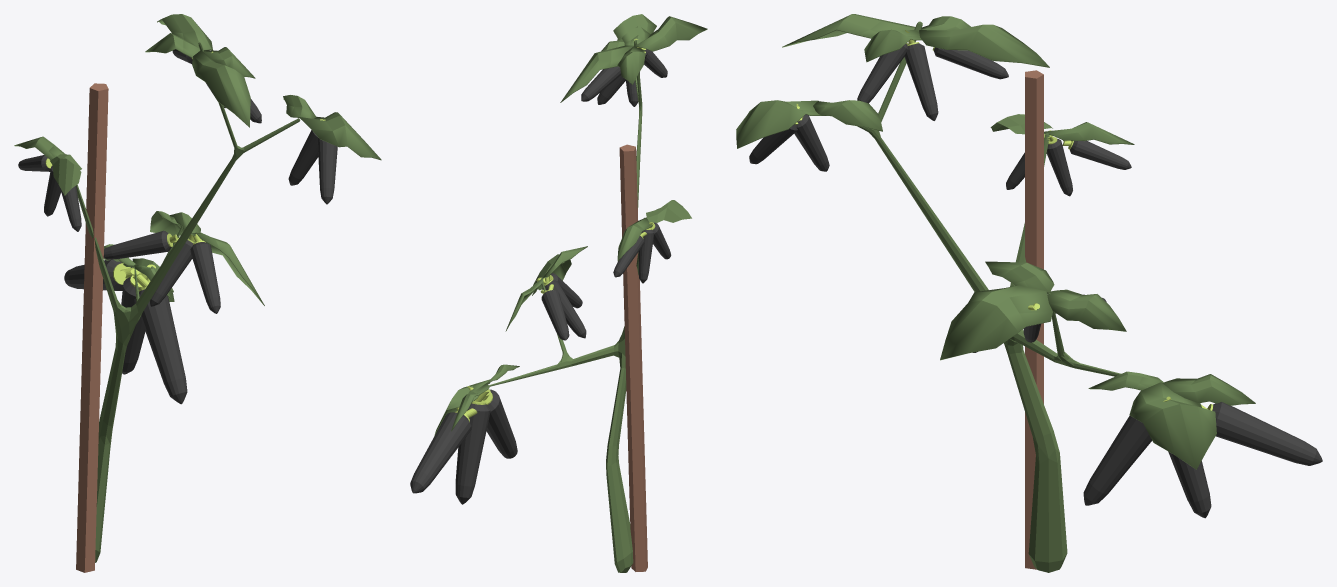
File: plant05.fbx
The picture shows the model from 3 angles, left to right: view 1: azimuth 30°, elevation 25°; view 2: azimuth 150°, elevation 25°; view 3: azimuth 270°, elevation 25°; orthographic projection. The views are drawn at different scales.
Parts seen in each view (by area): view 1: Plane.043; view 2: Plane.043; view 3: Plane.043.
Boxes of the visible parts, left/top/right/bottom form: Plane.043: left=14, top=14, right=381, bottom=572; Plane.043: left=410, top=14, right=707, bottom=572; Plane.043: left=736, top=14, right=1322, bottom=572.
Size of the model in its own units: 0.2474 by 0.6635 by 0.6095.
